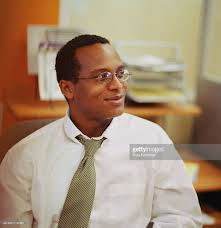Glasses: (76, 68, 134, 86)
